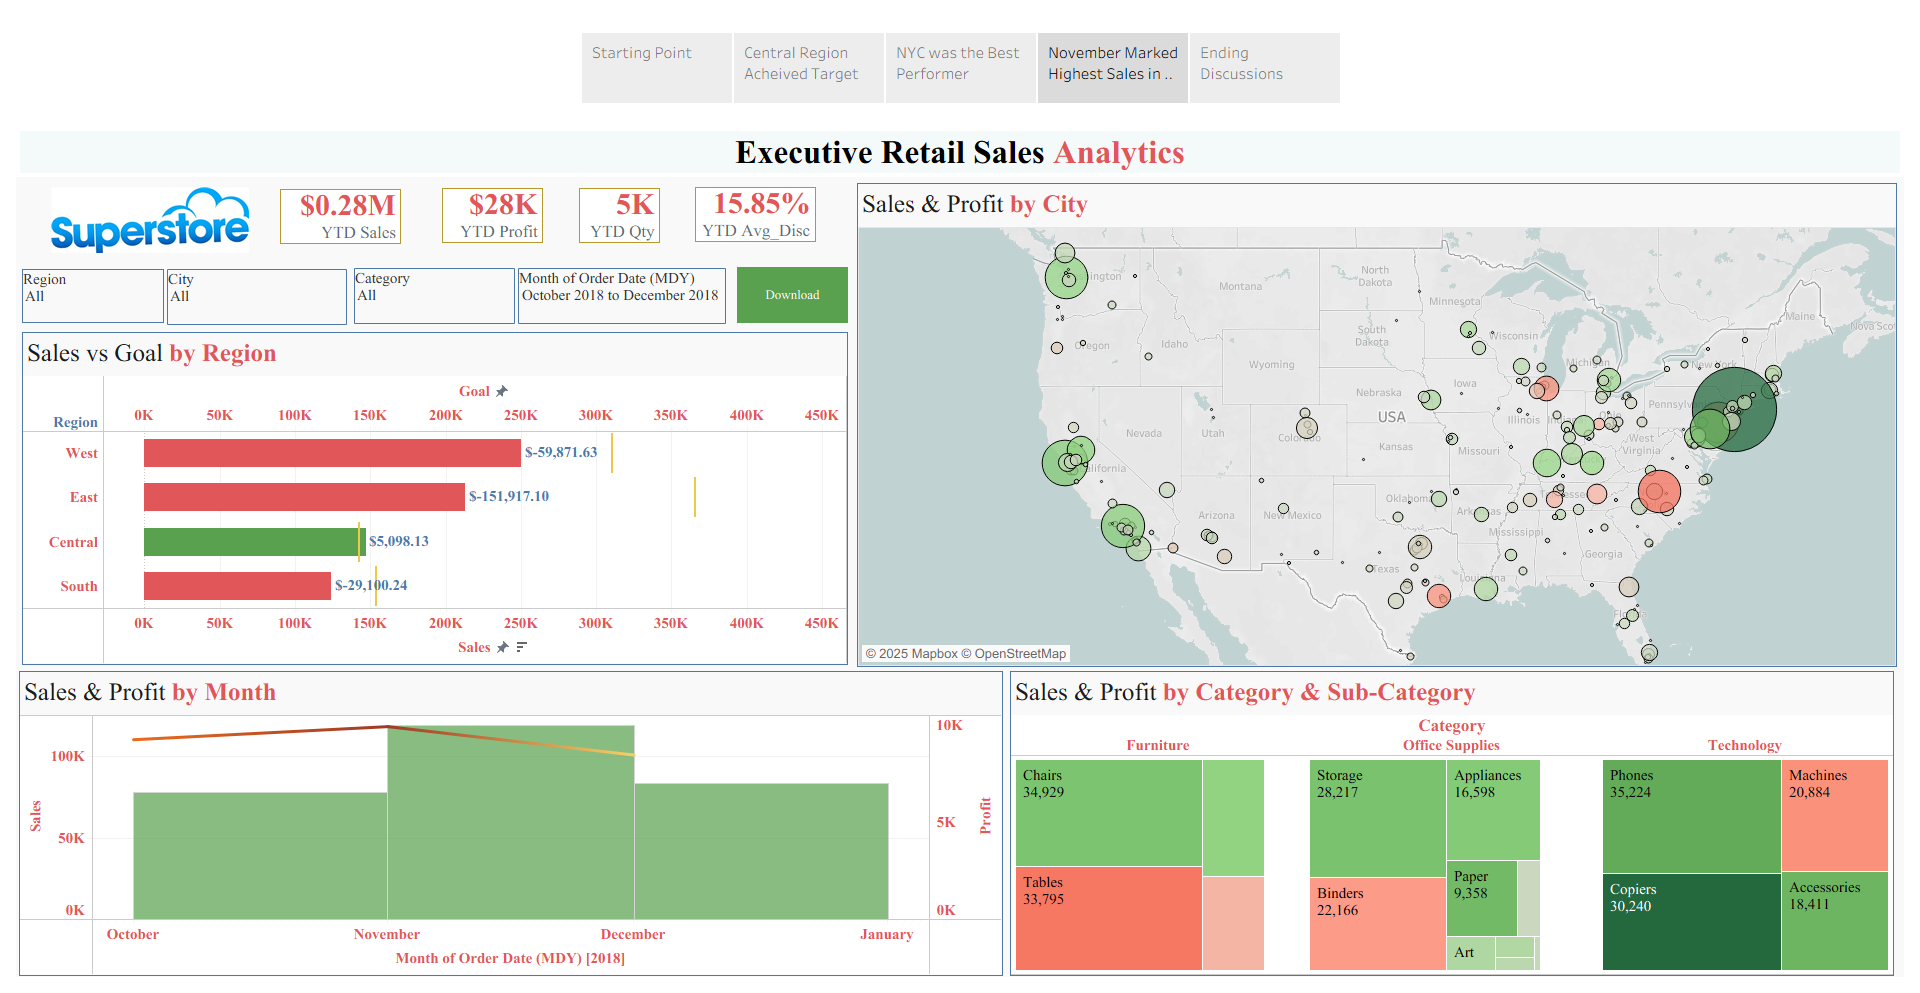

What the dashboard file says about the page in this screenshot:
{"tool":"tableau","page":{"name":"Dashboard","canvas":[1000,1000],"units":"permille","ordinal":0},"visuals":[{"type":"title","box":[4.8,10,990.3,62.4]},{"type":"worksheet","title":"Discount","mark":"Automatic","box":[360.9,61.2,81.5,101.1]},{"type":"worksheet","title":"Profit","mark":"Automatic","box":[228.1,62.4,62.8,91.1]},{"type":"worksheet","title":"Quantity","mark":"Automatic","box":[299.9,62.4,62.8,98.6]},{"type":"worksheet","title":"Sales","mark":"Automatic","box":[143,63.7,75.4,101.1]},{"type":"worksheet","title":"City_wise","mark":"Automatic","box":[446,73.7,546.2,559.3]},{"type":"image","param":"Image/superstore.jpg","box":[7.2,78.7,135.2,76.2]},{"type":"dashboard-object","box":[382.6,171,58.5,64.9]},{"type":"filter","title":"Tree_Map","param":"[federated.1f22b5c0wxcofl1f5gr9v0yenl70].[none:Category:nk]","box":[181.7,172.3,84.5,64.9]},{"type":"filter","title":"Time_series","param":"[federated.1f22b5c0wxcofl1f5gr9v0yenl70].[tmn:Order Date (MDY):qk]","box":[267.9,172.3,109.2,64.9]},{"type":"filter","title":"Target_vs_Achieved","param":"[federated.1f22b5c0wxcofl1f5gr9v0yenl70].[none:Region:nk]","box":[7.2,173.5,74.8,62.4]},{"type":"filter","title":"City_wise","param":"[federated.1f22b5c0wxcofl1f5gr9v0yenl70].[none:City:nk]","box":[83.3,173.5,94.8,64.9]},{"type":"worksheet","title":"Target_vs_Achieved","mark":"Automatic","rows":["Region"],"cols":["Sales","Goal"],"box":[7.2,245.9,433.9,384.5]},{"type":"worksheet","title":"Time_series","mark":"Automatic","rows":["Sales","Profit"],"cols":["Order Date (MDY)"],"box":[6,638,516.8,352.1]},{"type":"worksheet","title":"Tree_Map","mark":"Automatic","cols":["Category"],"box":[526.4,638,464,352.1]}]}

Visuals, with their boxes on the dashboard's canvas, which has no fixed pixel size, in thousandths of its width and height (x1, y1, x2, y2). These are canvas units, not pixel positions in the 1920x993 screenshot, which may show the page scaled, cropped or inside an application window:
title: {"left": 5, "top": 10, "right": 995, "bottom": 72}
"Discount" worksheet: {"left": 361, "top": 61, "right": 442, "bottom": 162}
"Profit" worksheet: {"left": 228, "top": 62, "right": 291, "bottom": 154}
"Quantity" worksheet: {"left": 300, "top": 62, "right": 363, "bottom": 161}
"Sales" worksheet: {"left": 143, "top": 64, "right": 218, "bottom": 165}
"City_wise" worksheet: {"left": 446, "top": 74, "right": 992, "bottom": 633}
image: {"left": 7, "top": 79, "right": 142, "bottom": 155}
dashboard-object: {"left": 383, "top": 171, "right": 441, "bottom": 236}
"Tree_Map" filter: {"left": 182, "top": 172, "right": 266, "bottom": 237}
"Time_series" filter: {"left": 268, "top": 172, "right": 377, "bottom": 237}
"Target_vs_Achieved" filter: {"left": 7, "top": 174, "right": 82, "bottom": 236}
"City_wise" filter: {"left": 83, "top": 174, "right": 178, "bottom": 238}
"Target_vs_Achieved" worksheet: {"left": 7, "top": 246, "right": 441, "bottom": 630}
"Time_series" worksheet: {"left": 6, "top": 638, "right": 523, "bottom": 990}
"Tree_Map" worksheet: {"left": 526, "top": 638, "right": 990, "bottom": 990}
